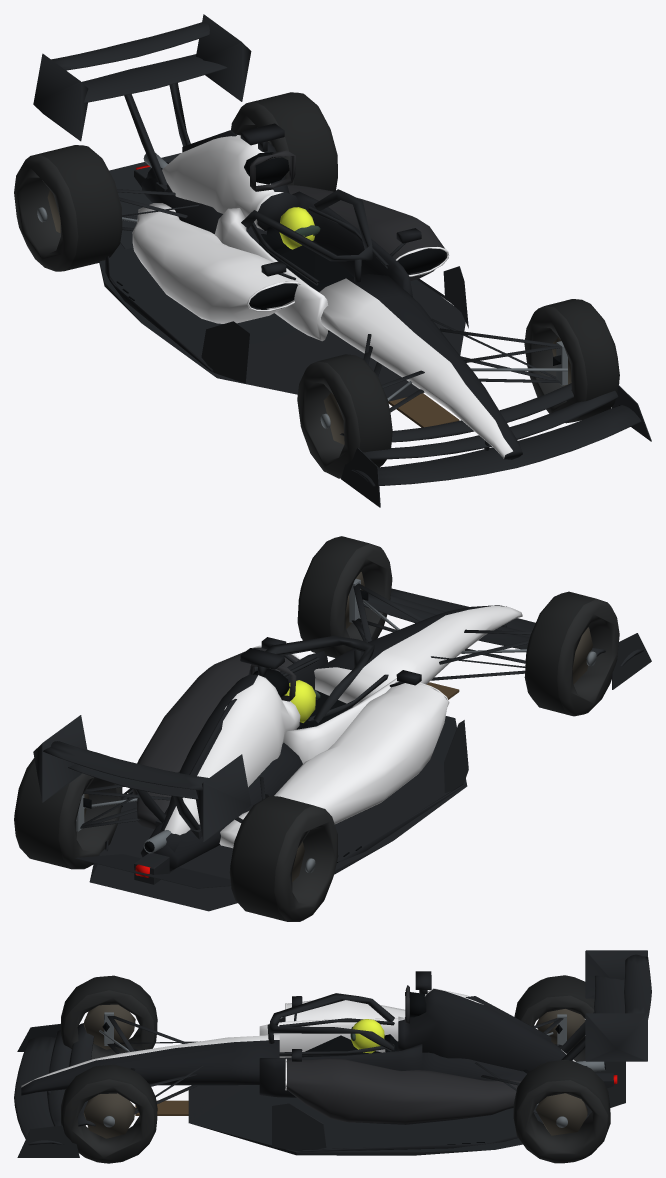
File: mac26-lod3.glb
The picture shows the model from 3 angles, top to bottom: view 1: azimuth 30°, elevation 25°; view 2: azimuth 150°, elevation 25°; view 3: azimuth 270°, elevation 25°; orthographic projection. The views are drawn at different scales.
Visible parts, largest first — view 1: L3_Chassis, L3_Wheel_RL, L3_Wheel_FL, L3_Wheel_FR, L3_Wheel_RR; view 2: L3_Chassis, L3_Wheel_RL, L3_Wheel_FL, L3_Wheel_RR, L3_Wheel_FR; view 3: L3_Chassis, L3_Wheel_RR, L3_Wheel_FR, L3_Wheel_FL, L3_Wheel_RL.
Boxes of the visible parts, x1,y1,x2,y2 form: L3_Chassis: (33, 14, 651, 507); L3_Wheel_RL: (14, 145, 122, 271); L3_Wheel_FL: (297, 354, 392, 478); L3_Wheel_FR: (524, 299, 619, 423); L3_Wheel_RR: (231, 92, 337, 191); L3_Chassis: (33, 572, 651, 911); L3_Wheel_RL: (229, 796, 338, 921); L3_Wheel_FL: (524, 591, 619, 716); L3_Wheel_RR: (14, 752, 122, 869); L3_Wheel_FR: (297, 536, 392, 657); L3_Chassis: (14, 950, 651, 1157); L3_Wheel_RR: (513, 1059, 610, 1163); L3_Wheel_FR: (61, 1064, 157, 1163); L3_Wheel_FL: (61, 975, 157, 1059); L3_Wheel_RL: (514, 975, 594, 1061).
Bounding box in the file's own units: 1.9 × 1.13 × 4.79.
